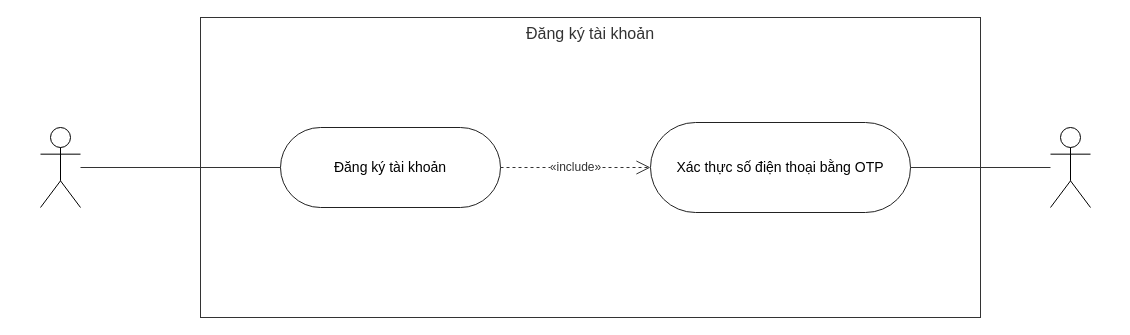
Some shapes in this 1130 by 335 pixel diagram are drawn without their labels. Here are the shapes that lost their labels. From the top down, the centre of each, then its label:
At (x=60, y=167): "KHÁCH HÀNG".
At (x=1070, y=167): "DỊCH VỤ SMS".
